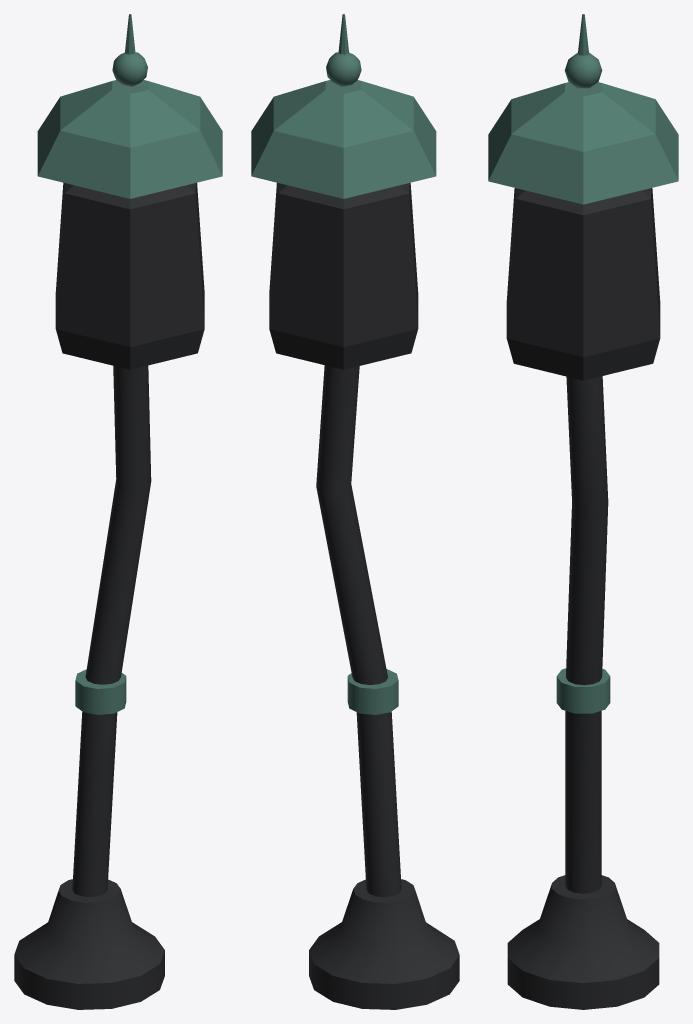
File: haunt_gaslamp.fbx
3 views of the same model, side by side, from view 1: azimuth 30°, elevation 25°; view 2: azimuth 150°, elevation 25°; view 3: azimuth 270°, elevation 25° (orthographic). The views are drawn at different scales.
Parts seen in each view (by area): view 1: iron_1, verdigris_1; view 2: iron_1, verdigris_1; view 3: iron_1, verdigris_1.
Boxes of the visible parts, x1,y1,x2,y2 form: iron_1: (14, 182, 204, 1009); verdigris_1: (37, 14, 222, 714); iron_1: (269, 182, 459, 1009); verdigris_1: (251, 14, 436, 714); iron_1: (506, 188, 660, 1009); verdigris_1: (488, 14, 678, 713).
Size of the model in its own units: 0.176 by 0.808 by 0.142.
